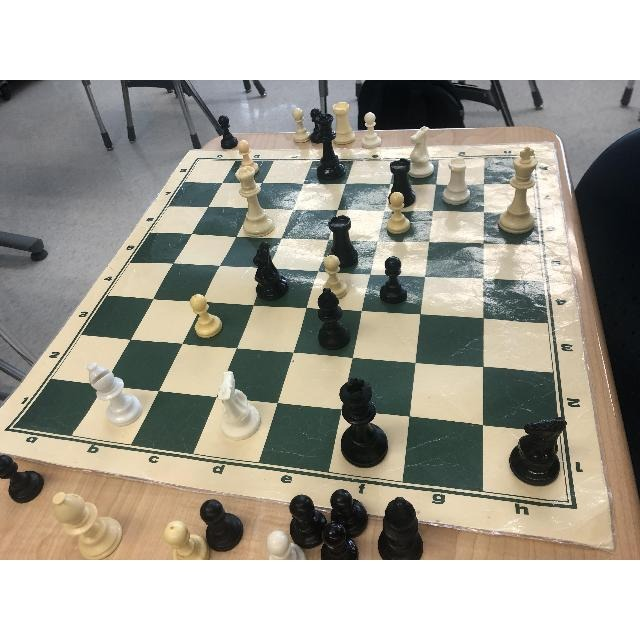black-bishop: (316, 287, 349, 348)
black-king: (339, 380, 388, 468)
black-knight: (509, 417, 567, 487), (253, 243, 289, 301)
black-pawn: (380, 256, 406, 303)
black-queen: (314, 113, 345, 181)
black-rook: (328, 216, 357, 268), (388, 158, 416, 208)
white-bishop: (87, 363, 143, 427)
white-knight: (217, 370, 260, 439), (408, 127, 436, 179)
white-pawn: (190, 294, 222, 337), (323, 256, 348, 300), (387, 191, 409, 233), (239, 139, 259, 174)
white-queen: (235, 166, 274, 238)
white-rook: (443, 159, 469, 205)
